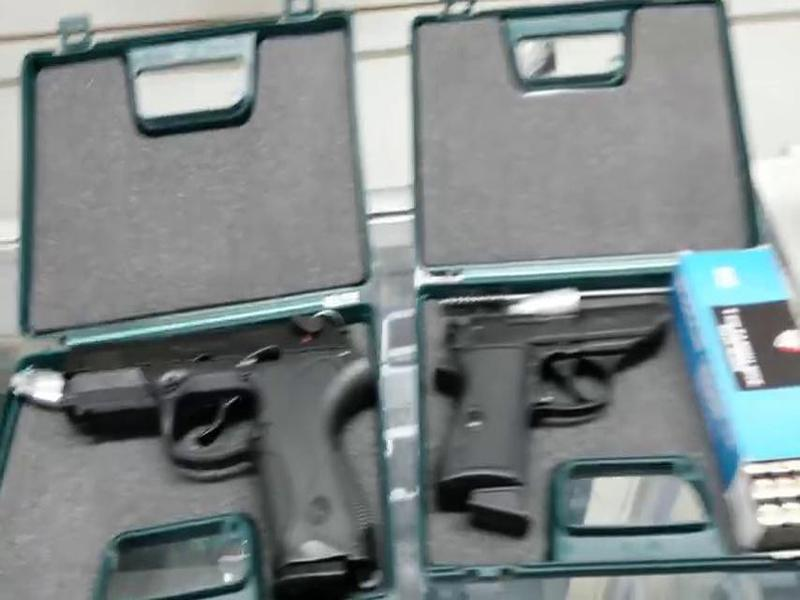Pistola: (52, 302, 401, 581), (424, 289, 691, 518)
